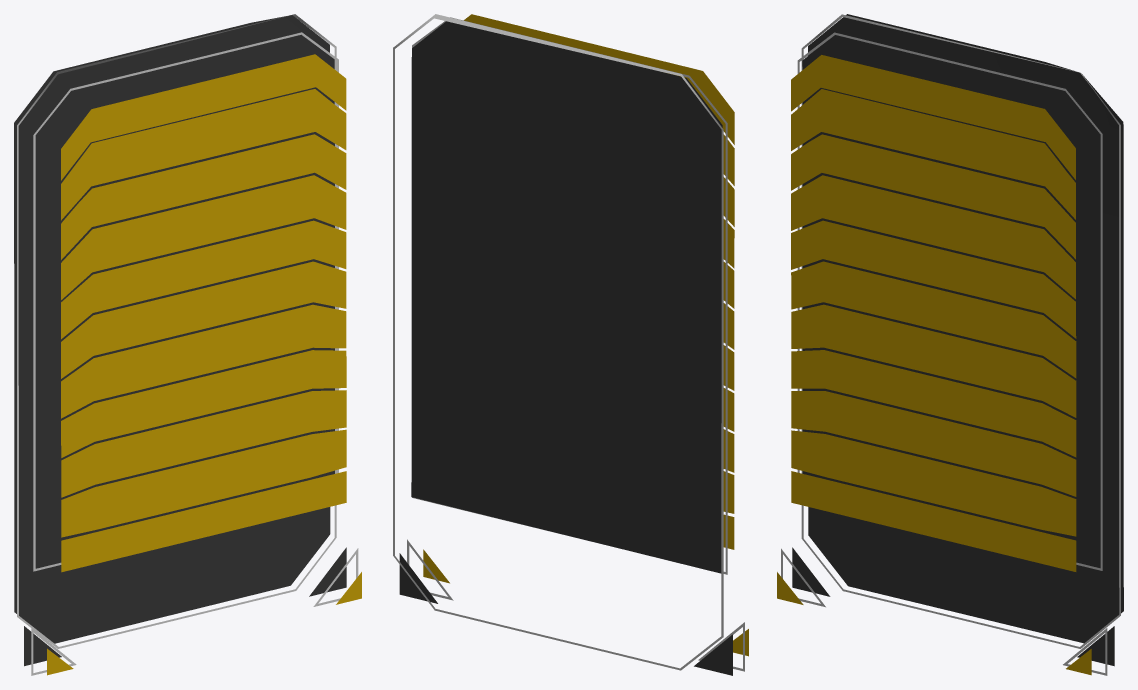
Rendered from vertical_gauge_wide.fbx.
The picture shows the model from 3 angles, left to right: view 1: azimuth 30°, elevation 25°; view 2: azimuth 150°, elevation 25°; view 3: azimuth 330°, elevation 25°; orthographic projection. The views are drawn at different scales.
Visible parts, largest first — view 1: vertical_background, vertical_tick_back, vertical_tick4, vertical_tick7, vertical_tick10, vertical_tick2, vertical_tick9, vertical_tick6, vertical_tick8, vertical_tick3, vertical_tick5, vertical_tick1 (+5 smaller); view 2: vertical_tick_back, outline2, vertical_tick1, outline1, vertical_l_cnr_back, vertical_r_cnr_back; view 3: vertical_background, vertical_tick_back, vertical_tick10, vertical_tick7, vertical_tick4, vertical_tick2, vertical_tick6, vertical_tick9, vertical_tick8, vertical_tick5, vertical_tick3, vertical_tick1 (+5 smaller).
Boxes of the visible parts, x1,y1,x2,y2 form: vertical_background: [14, 15, 330, 643]; vertical_tick_back: [34, 31, 334, 566]; vertical_tick4: [61, 175, 346, 299]; vertical_tick7: [61, 304, 346, 418]; vertical_tick10: [61, 429, 346, 537]; vertical_tick2: [61, 89, 346, 220]; vertical_tick9: [61, 390, 346, 497]; vertical_tick6: [61, 261, 346, 378]; vertical_tick8: [61, 350, 346, 457]; vertical_tick3: [61, 134, 346, 259]; vertical_tick5: [61, 220, 346, 339]; vertical_tick1: [61, 54, 346, 180]; vertical_tick_back: [411, 21, 722, 573]; outline2: [393, 14, 723, 670]; vertical_tick1: [464, 14, 734, 144]; outline1: [412, 17, 727, 574]; vertical_l_cnr_back: [694, 634, 732, 675]; vertical_r_cnr_back: [399, 553, 437, 603]; vertical_background: [808, 14, 1123, 643]; vertical_tick_back: [802, 32, 1102, 565]; vertical_tick10: [791, 430, 1076, 536]; vertical_tick7: [791, 304, 1076, 417]; vertical_tick4: [791, 175, 1075, 299]; vertical_tick2: [791, 89, 1075, 219]; vertical_tick6: [791, 261, 1076, 378]; vertical_tick9: [791, 391, 1076, 496]; vertical_tick8: [791, 350, 1076, 457]; vertical_tick5: [791, 220, 1076, 338]; vertical_tick3: [791, 134, 1075, 259]; vertical_tick1: [791, 55, 1075, 179].
Bounding box in the file's own units: 7.54 × 12.8 × 1.27.
